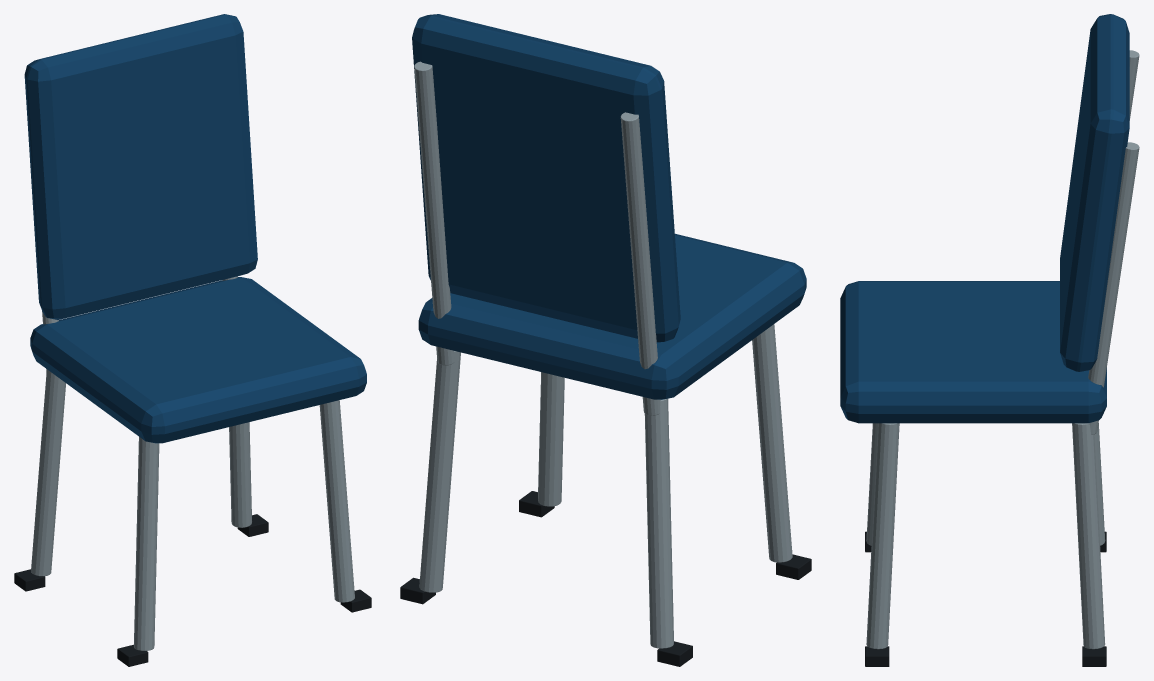
3 views of the same model, side by side, from view 1: azimuth 30°, elevation 25°; view 2: azimuth 150°, elevation 25°; view 3: azimuth 270°, elevation 25° (orthographic). The views are drawn at different scales.
Parts seen in each view (by area): view 1: BACK, SEAT, LEG, LEG.002, LEG.001, LEG.003; view 2: BACK, SEAT, LEG.001, LEG.003, LEG, BACK_Support.001, BACK_Support, LEG.002, FOOT_Pad.001, FOOT_Pad; view 3: SEAT, BACK, LEG.002, LEG.003, BACK_Support, LEG, LEG.001, FOOT_Pad.002, FOOT_Pad.003.
Boxes of the visible parts, <box> form: BACK: <box>24,14,257,319</box>; SEAT: <box>30,277,366,443</box>; LEG: <box>134,437,159,650</box>; LEG.002: <box>319,400,354,602</box>; LEG.001: <box>31,369,65,576</box>; LEG.003: <box>229,422,251,527</box>; BACK: <box>412,14,680,342</box>; SEAT: <box>418,233,806,399</box>; LEG.001: <box>644,398,673,648</box>; LEG.003: <box>419,351,460,592</box>; LEG: <box>752,324,792,562</box>; BACK_Support.001: <box>620,112,660,415</box>; BACK_Support: <box>414,61,454,365</box>; LEG.002: <box>538,372,564,506</box>; FOOT_Pad.001: <box>657,641,692,666</box>; FOOT_Pad: <box>776,554,811,579</box>; SEAT: <box>840,281,1106,423</box>; BACK: <box>1060,14,1129,371</box>; LEG.002: <box>866,423,899,649</box>; LEG.003: <box>1072,423,1105,649</box>; BACK_Support: <box>1088,142,1139,434</box>; LEG: <box>866,423,877,545</box>; LEG.001: <box>1094,423,1105,545</box>; FOOT_Pad.002: <box>865,646,889,666</box>; FOOT_Pad.003: <box>1082,646,1106,666</box>.
Size of the model in its own units: 0.488 by 0.9886 by 0.4937.
